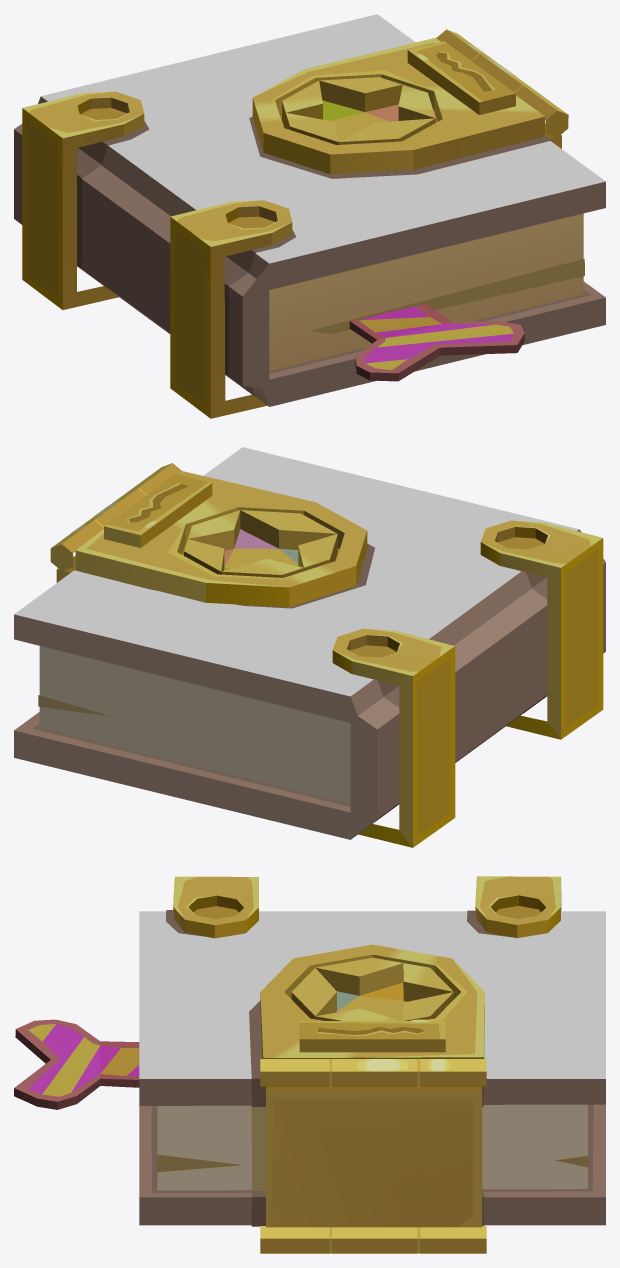
File: islandCodex.glb
The picture shows the model from 3 angles, top to bottom: view 1: azimuth 30°, elevation 25°; view 2: azimuth 150°, elevation 25°; view 3: azimuth 270°, elevation 25°; orthographic projection. The views are drawn at different scales.
Visible parts, largest first — view 1: islandCodex; view 2: islandCodex; view 3: islandCodex.
Boxes of the visible parts, x1=… form: islandCodex: x1=14, y1=14, x2=605, y2=418; islandCodex: x1=14, y1=447, x2=605, y2=847; islandCodex: x1=14, y1=876, x2=605, y2=1253.
Bounding box in the file's own units: 0.4226 × 0.2027 × 0.5311.
